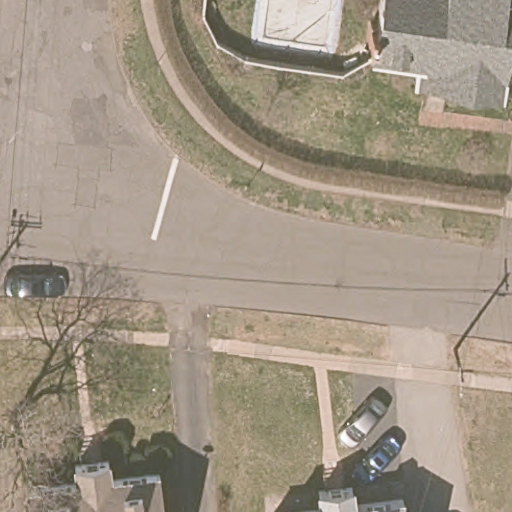DT: (448, 347, 479, 401)
